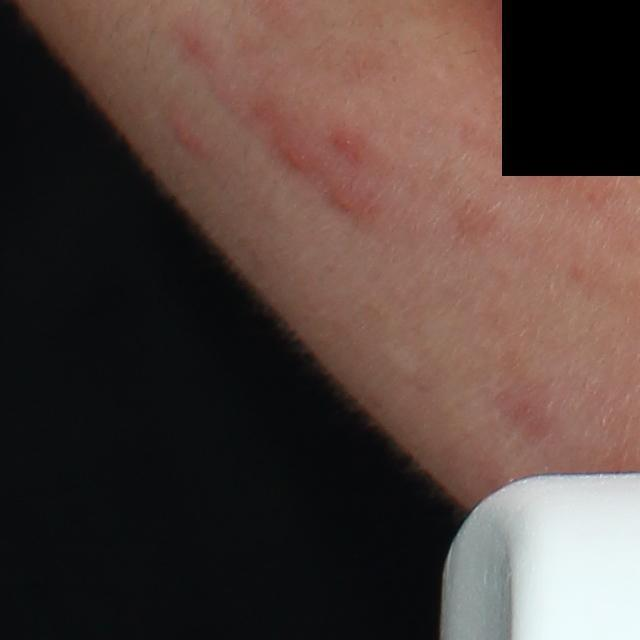papule: (169, 111, 211, 152), (283, 142, 316, 178), (333, 135, 359, 153)
